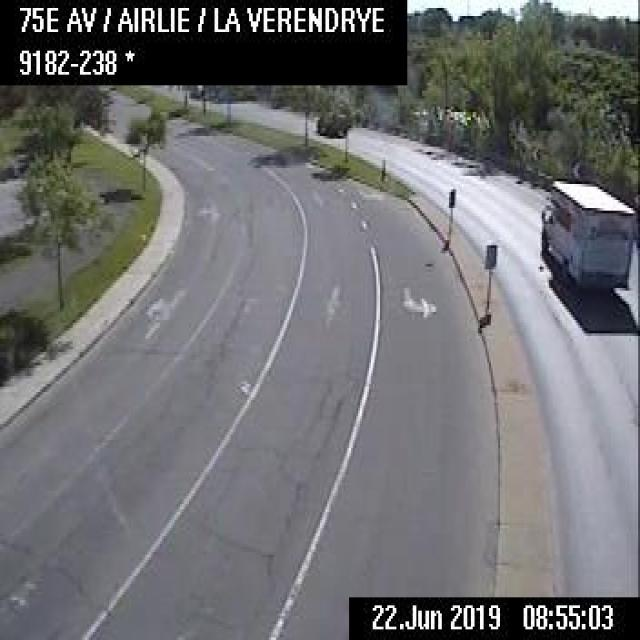vehicle: (538, 179, 638, 296), (314, 104, 352, 139)
